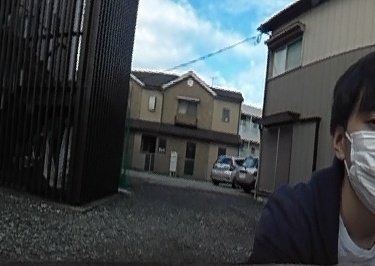person: (261, 50, 375, 266)
